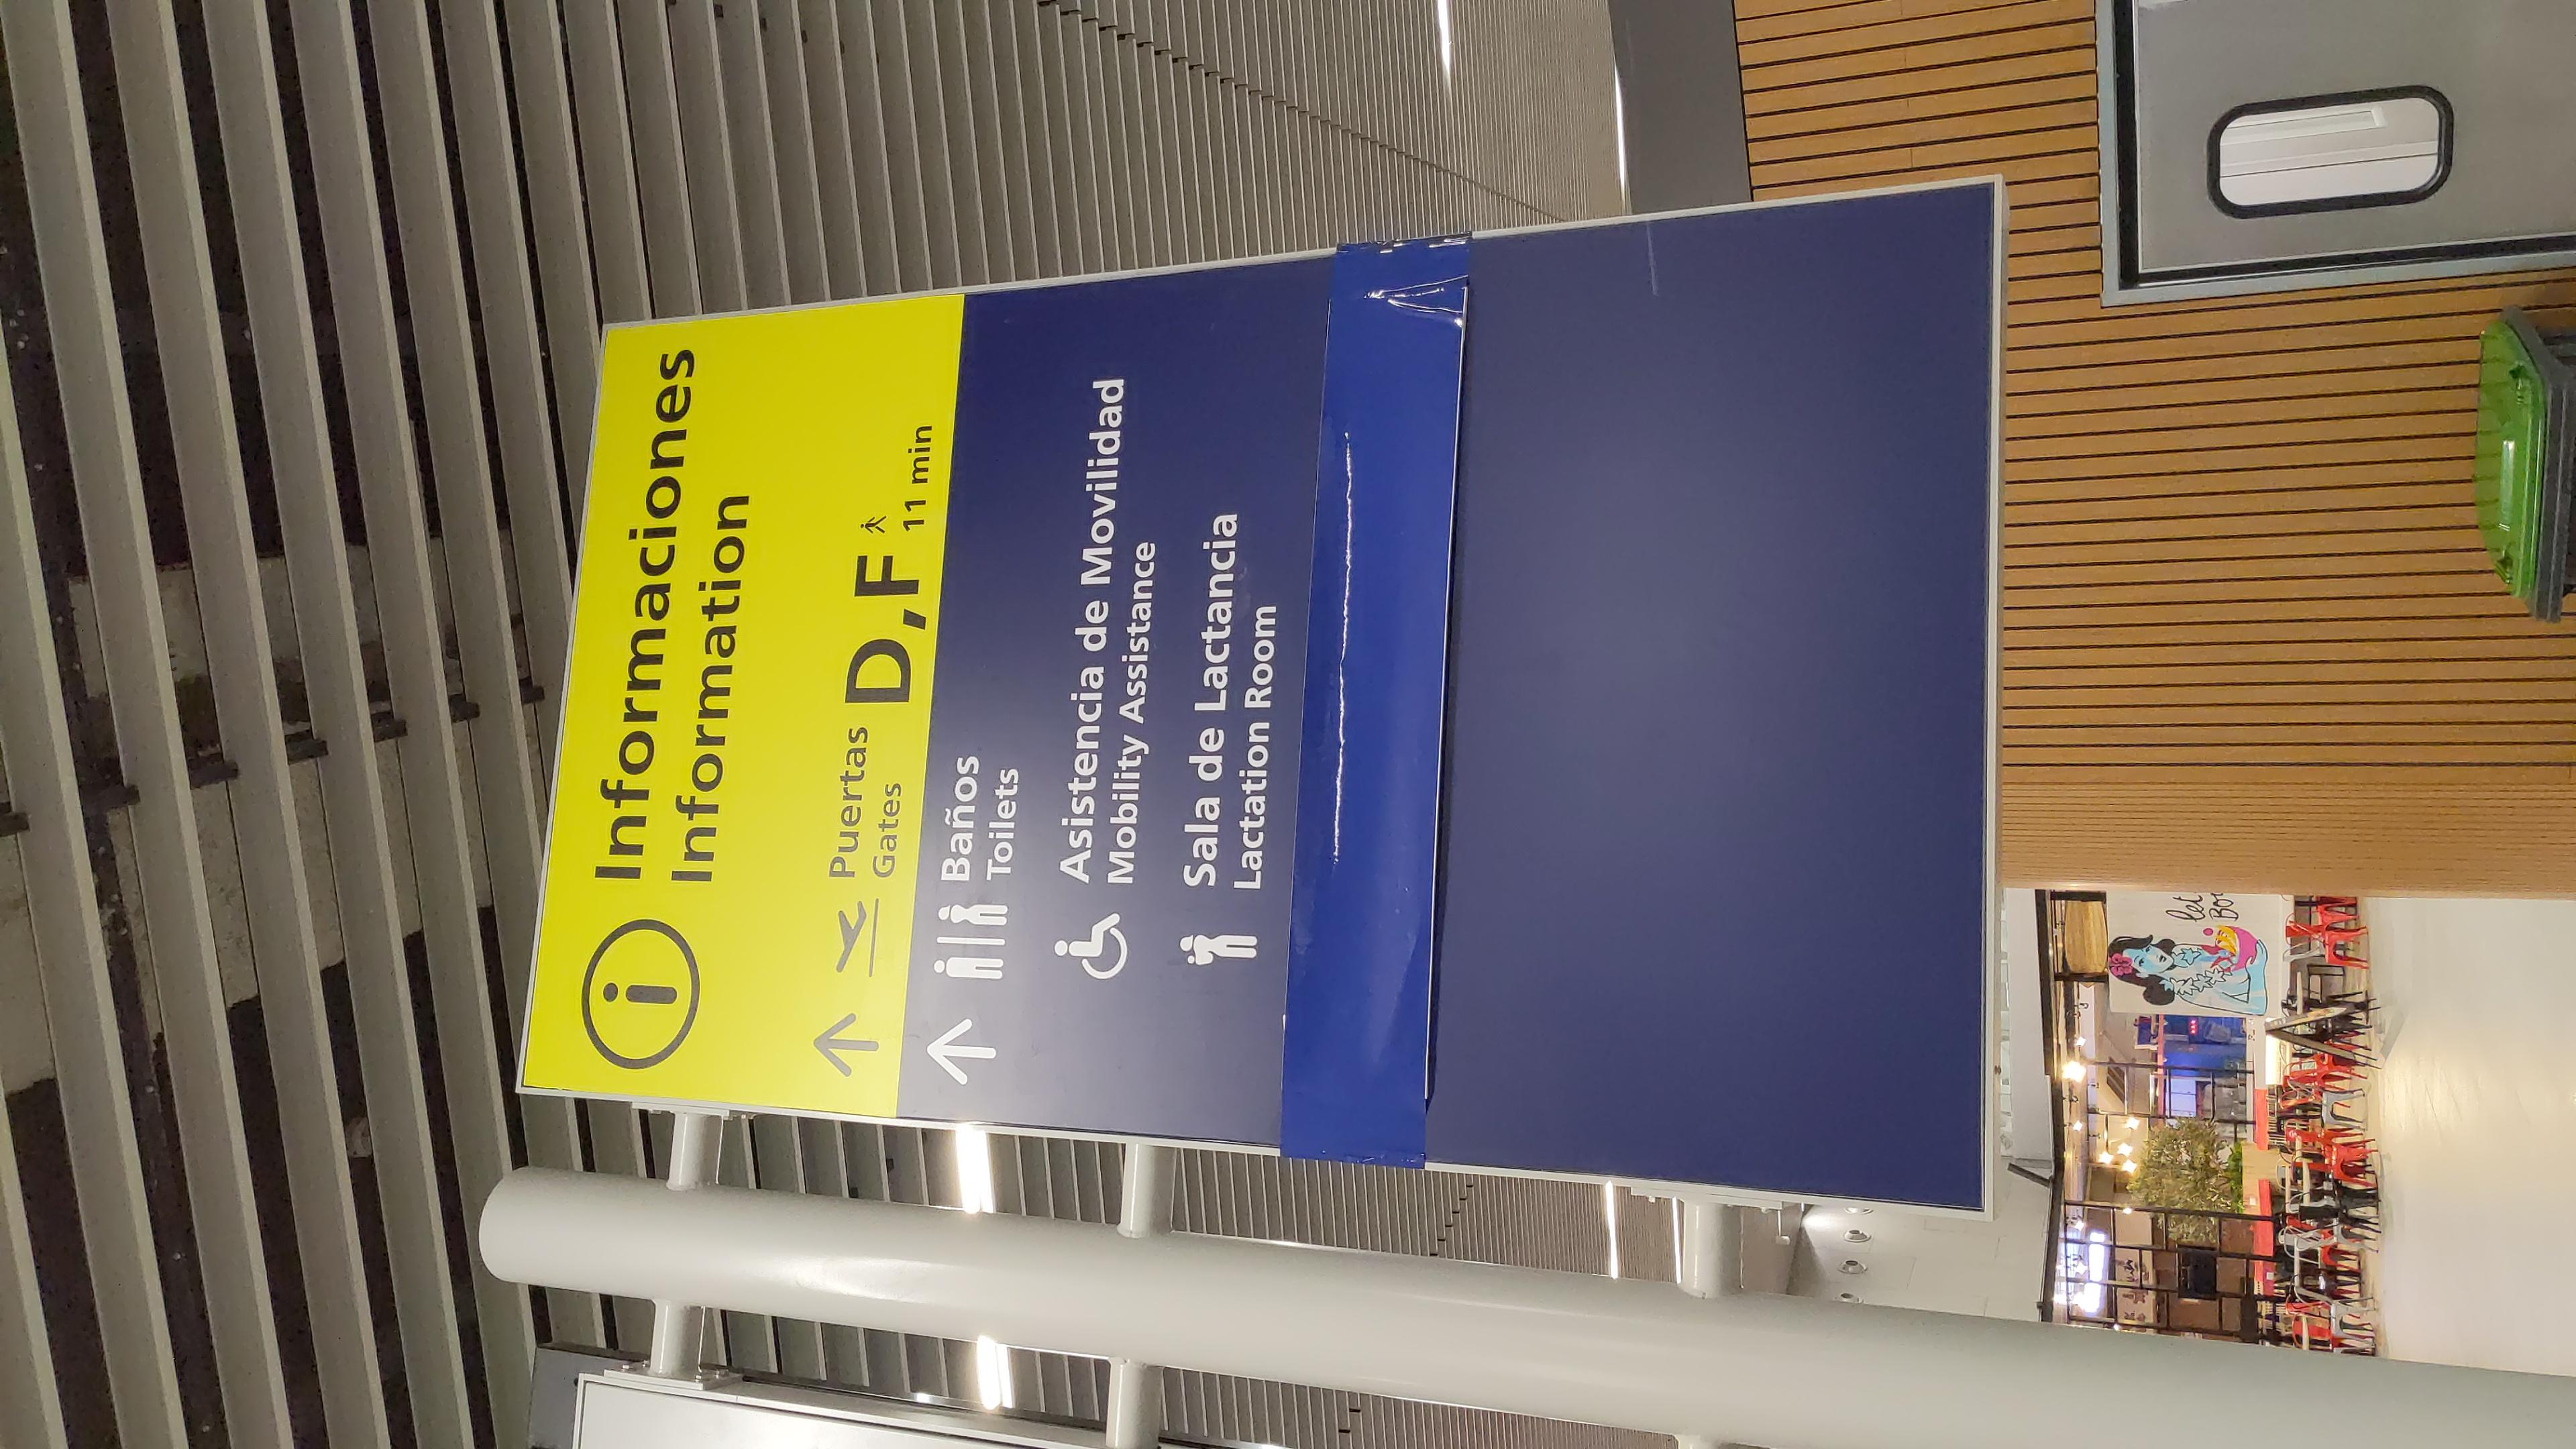airplane symbol: (837, 467, 978, 490)
emergency right arrow: (821, 520, 984, 570)
handicapped symbol: (832, 593, 955, 635)
thin up arrow: (639, 518, 773, 564), (653, 455, 784, 497)
